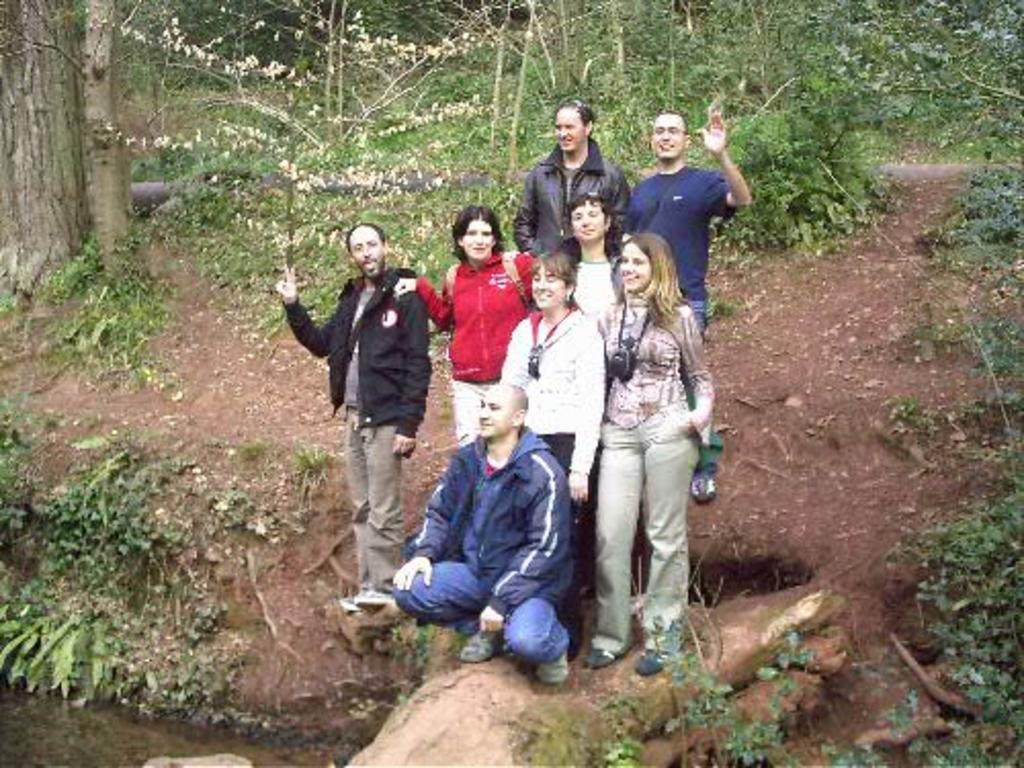Footwear: (459, 625, 496, 664), (573, 643, 625, 670), (535, 651, 569, 684), (358, 586, 395, 614), (635, 645, 670, 674), (686, 469, 715, 500), (354, 588, 393, 602), (336, 594, 362, 610)
